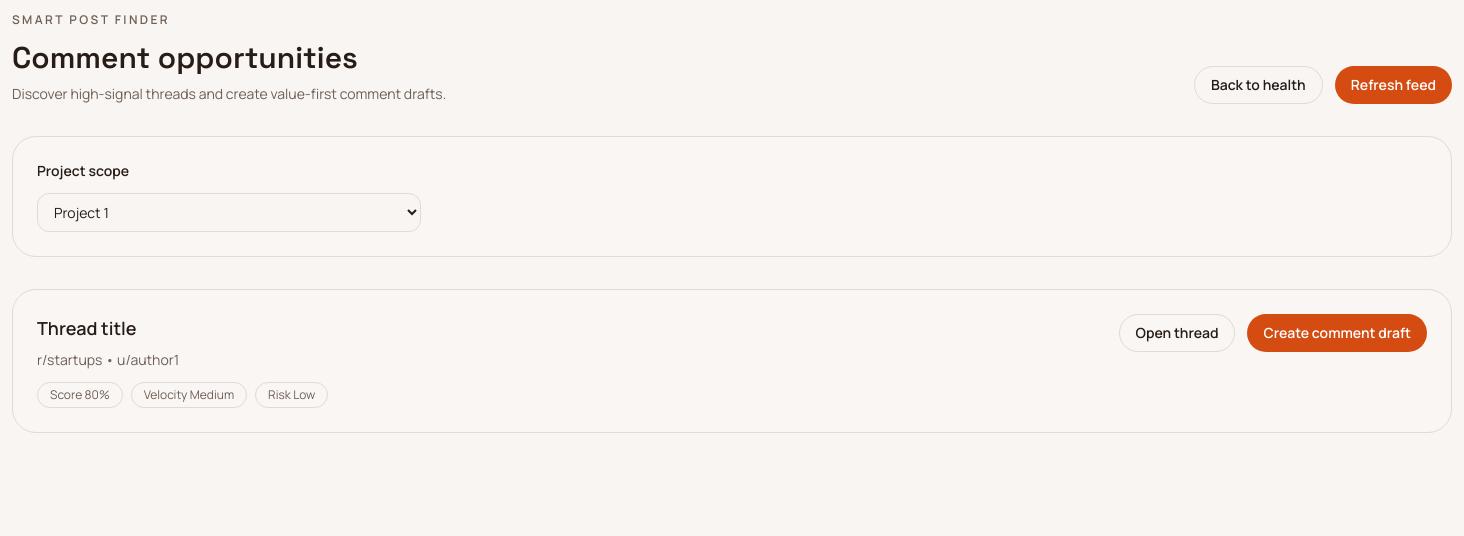
Test case: OpportunitiesPage › preserves create-action error while silent feed refresh completes
Expected: the button "Create comment draft" is shown, top-left (1248, 314), bottom-right (1427, 352)
Step 1. Click the button "Refresh feed" → click(1393, 85), box top-left (1335, 66), bottom-right (1452, 104)
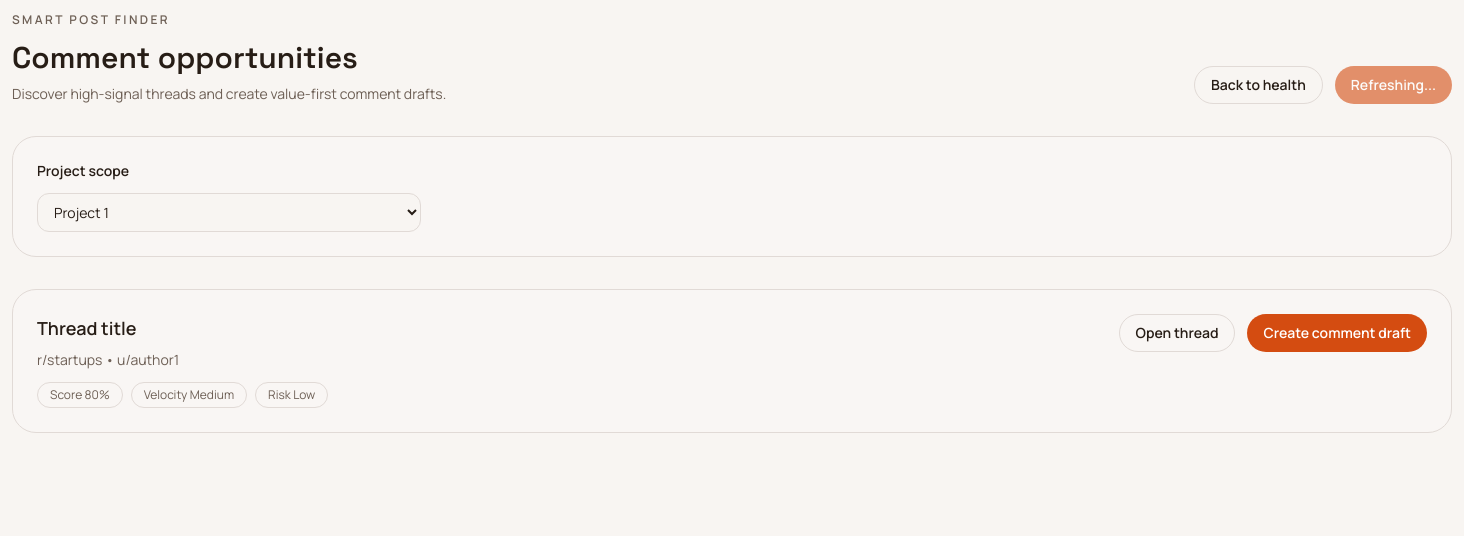
Step 2. Click the button "Create comment draft" → click(1337, 333), box top-left (1248, 314), bottom-right (1427, 352)
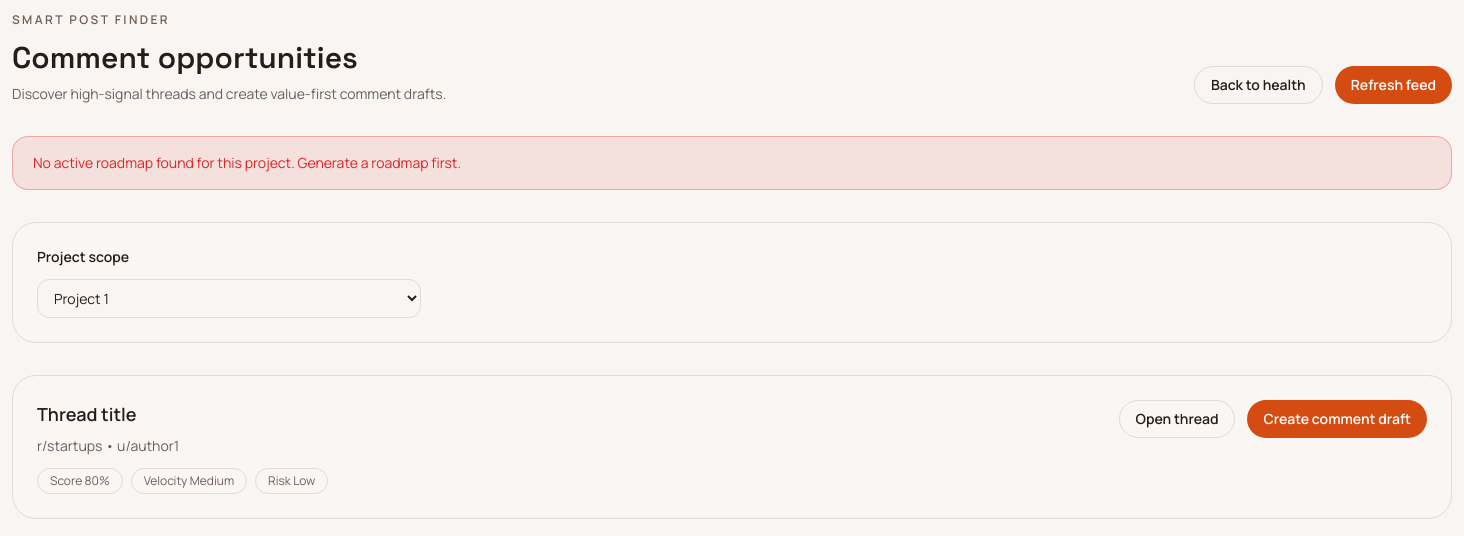
Expected: the text "No active roadmap found for this project. Generate a roadmap first." is shown, top-left (12, 136), bottom-right (1452, 190)
